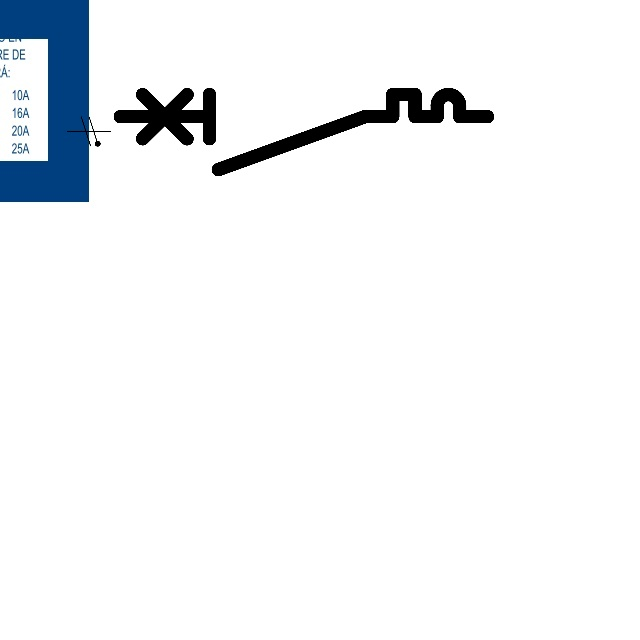interruptor_termomagnetico: (110, 85, 496, 179)
